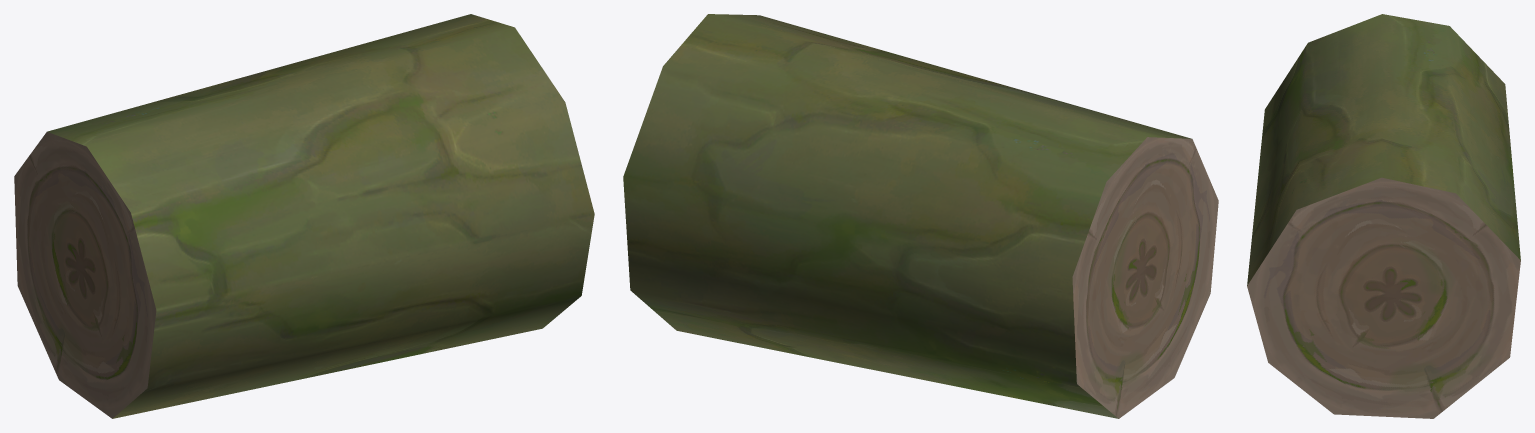
The model's file is m_env_collect_tree_cedar_fir_03_lod1.FBX.
3 renders of one model, left to right at view 1: azimuth 30°, elevation 25°; view 2: azimuth 150°, elevation 25°; view 3: azimuth 270°, elevation 25°, orthographic. The views are drawn at different scales.
Parts seen in each view (by area): view 1: m_env_collect_tree_cedar_fir_03_lod1; view 2: m_env_collect_tree_cedar_fir_03_lod1; view 3: m_env_collect_tree_cedar_fir_03_lod1.
Part boxes in pixels (left/top/right/bottom): m_env_collect_tree_cedar_fir_03_lod1: left=14, top=14, right=594, bottom=418; m_env_collect_tree_cedar_fir_03_lod1: left=623, top=14, right=1218, bottom=418; m_env_collect_tree_cedar_fir_03_lod1: left=1247, top=14, right=1520, bottom=418.
Size of the model in its own units: 58.33 by 37.17 by 38.22.
